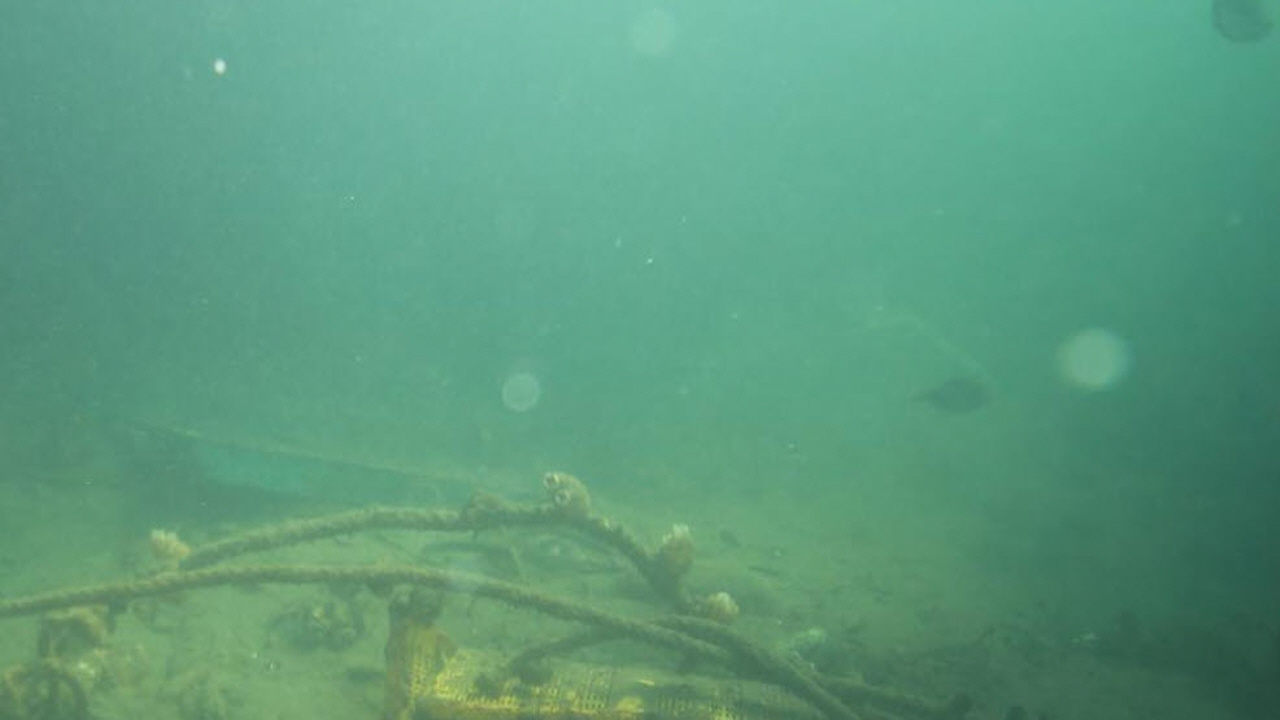bundle of ropes: (0, 498, 952, 720)
